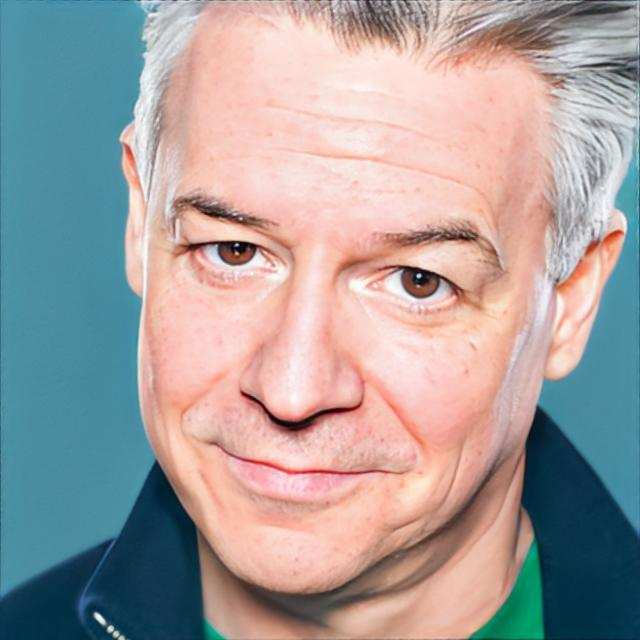content: (137, 0, 554, 598)
